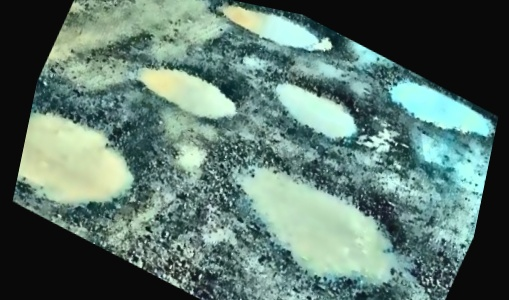pothole: (185, 118, 443, 300), (9, 82, 170, 244), (356, 54, 506, 160), (120, 35, 255, 138), (254, 57, 383, 158), (199, 0, 354, 78)
